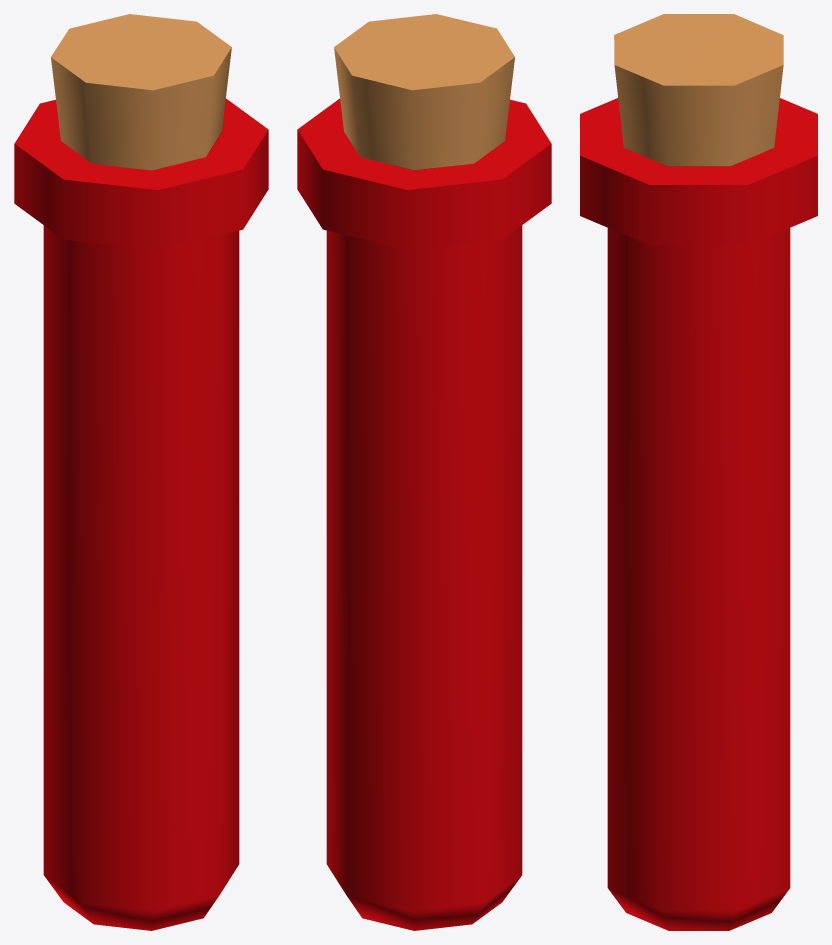
Rendered from potions.gltf.
3 views of the same model, side by side, from view 1: azimuth 30°, elevation 25°; view 2: azimuth 150°, elevation 25°; view 3: azimuth 270°, elevation 25° (orthographic).
Parts seen in each view (by area): view 1: Potion 3.001, Cork 3; view 2: Potion 3.001, Cork 3; view 3: Potion 3.001, Cork 3.
Part boxes in pixels (x1,y1,x2,y2): Potion 3.001: (14,98,268,930); Cork 3: (51,14,231,170); Potion 3.001: (297,98,551,930); Cork 3: (334,14,514,170); Potion 3.001: (580,98,817,930); Cork 3: (614,14,783,166).
Bounding box in the file's own units: 0.1758 × 0.6934 × 0.1758.
